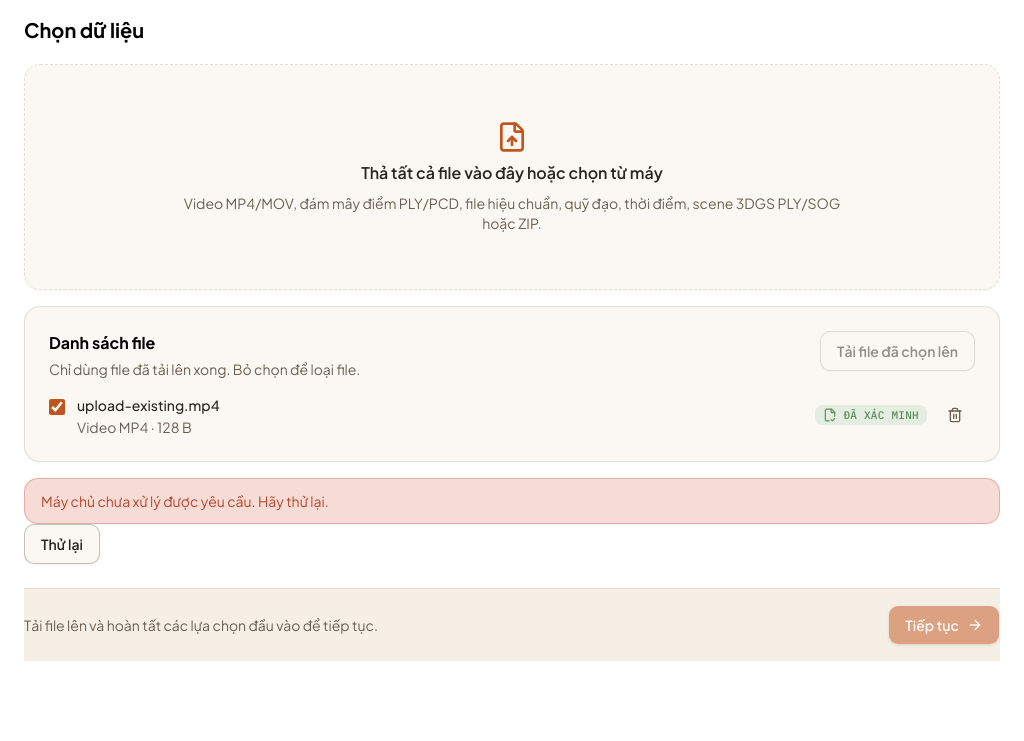
Test: unified input flow › only shows Retry after an automatic resolution request fails
(page scrolled)
Click the button "Thử lại" at (62,544), box [24,524,100,564]
(page scrolled)
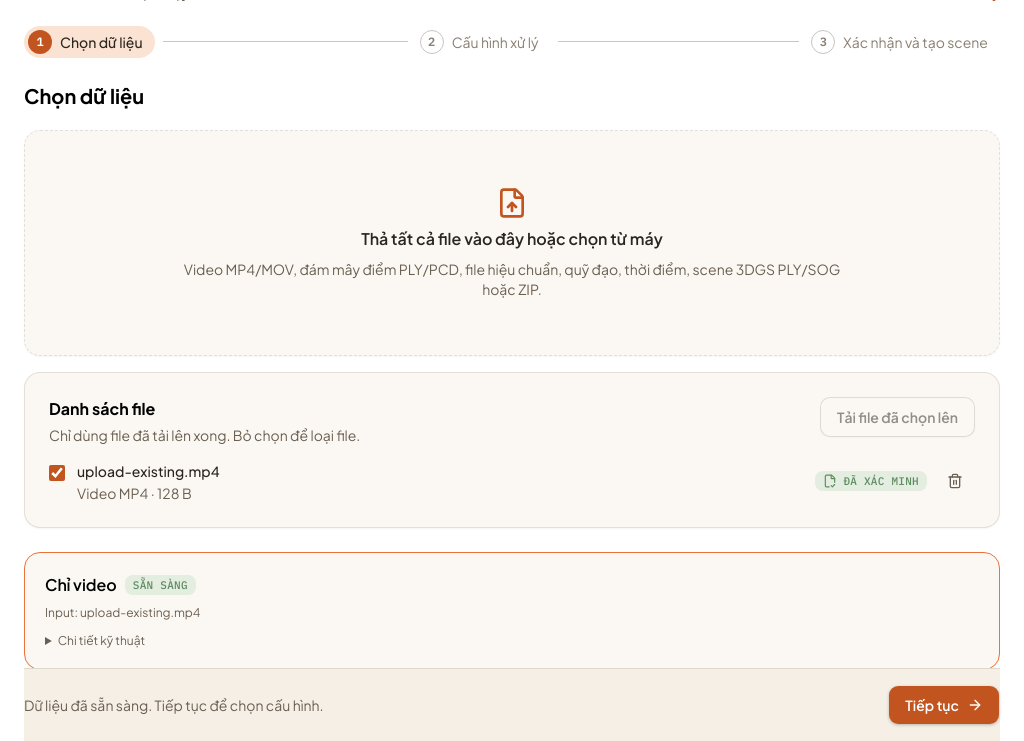
Check: the heading "Chỉ video" is shown, box [45,573,117,597]
Check: the text "thử lại" is gone
